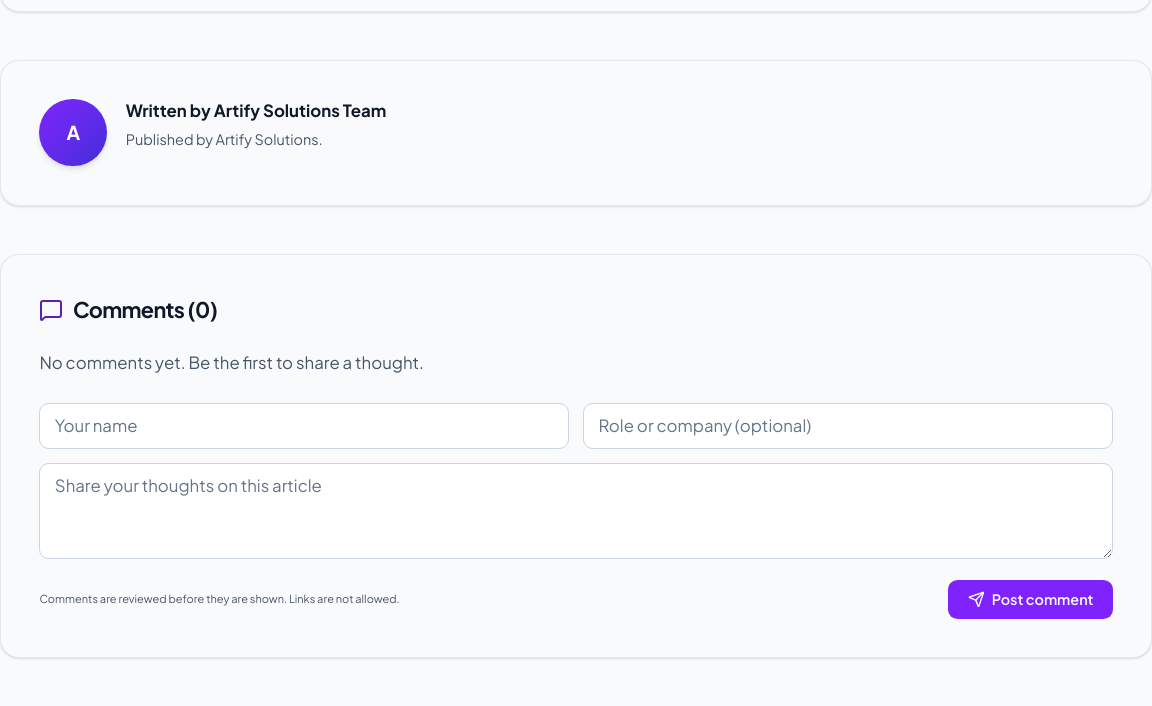
it: engagement UI › submits a comment for review, never showing it as published
The width and height of the screenshot is (1152, 706).
(page scrolled)
In the field labelled "Your name": (304, 426) [39,403,569,449], type "Reader One"
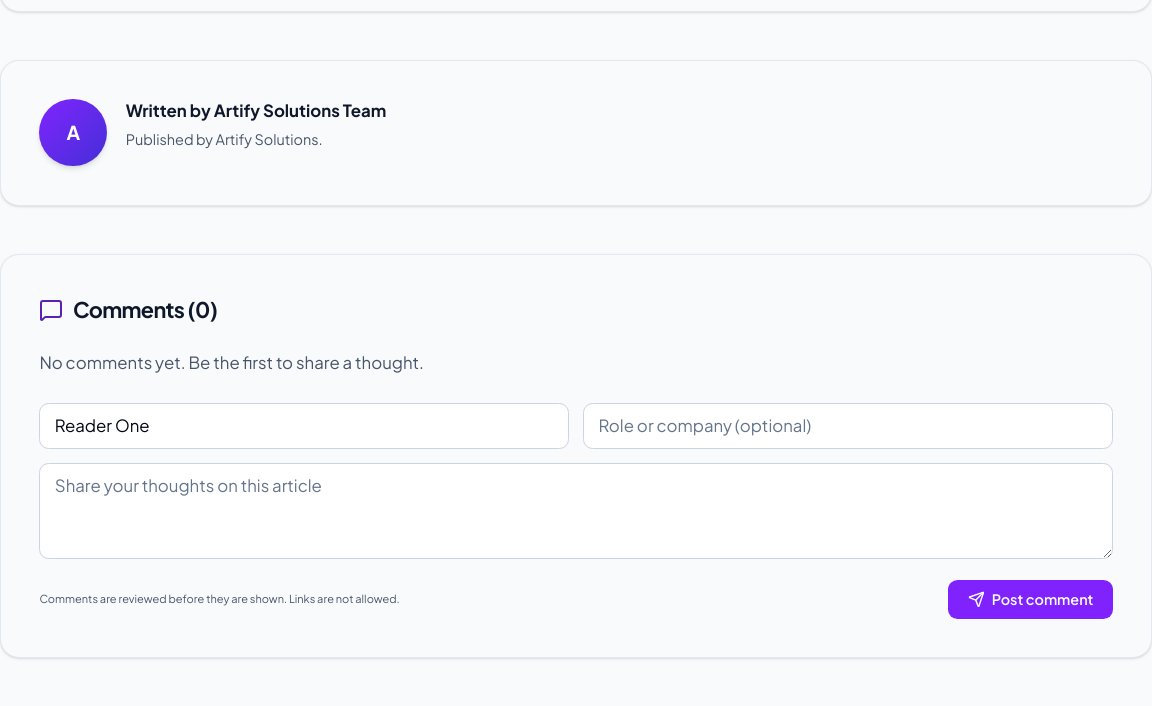
In the text box named "Your comment": (576, 511) [39,463,1113,559], type "A thoughtful comment."
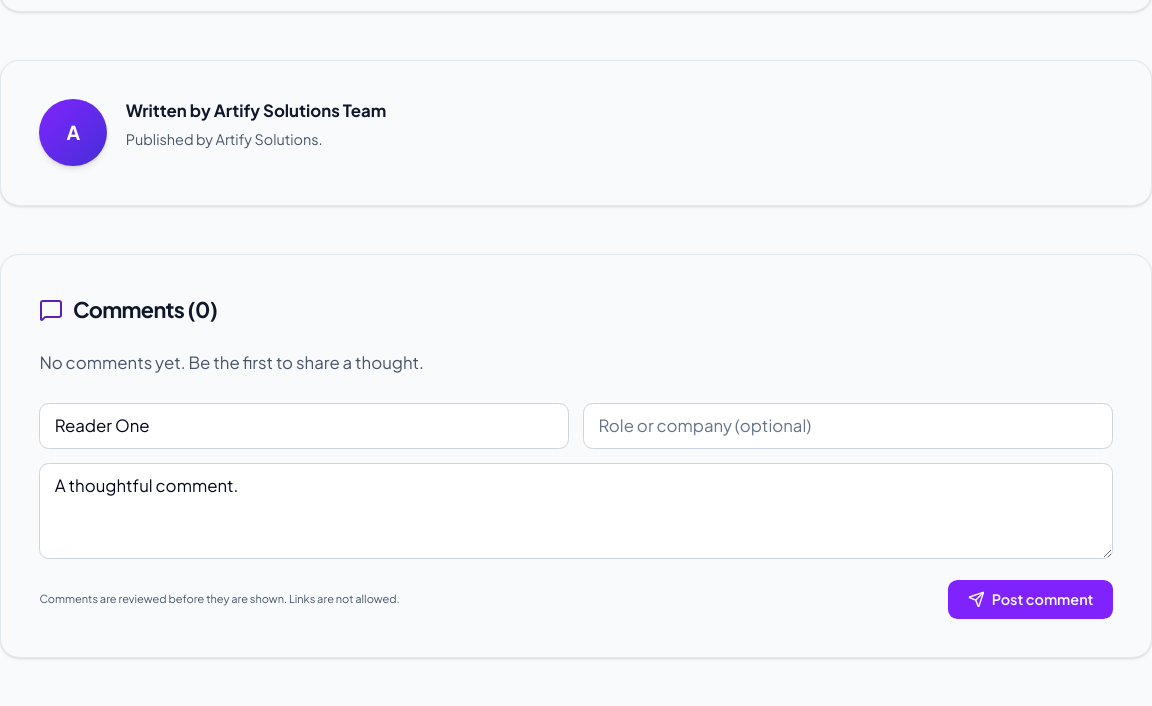
Submit the form named "Leave a comment", box [39,403,1113,618]
(page scrolled)
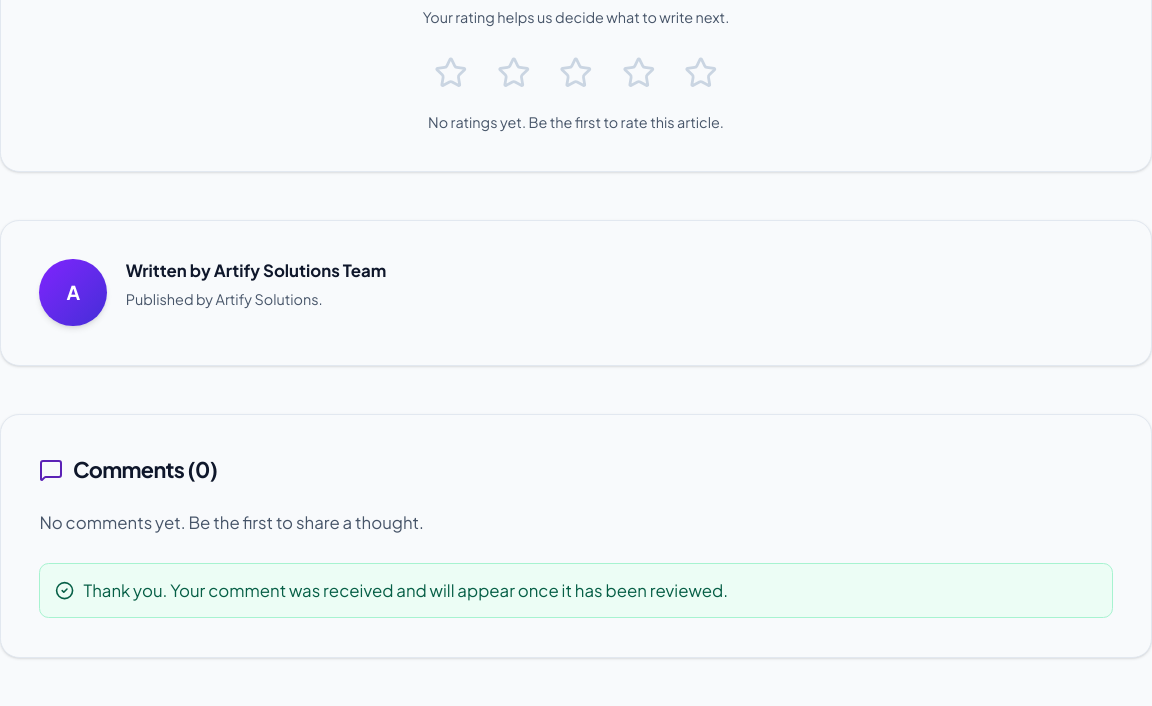
Expected: the heading "Comments (0)" is shown, [73,453,217,487]
Now the text "will appear once it has been reviewed" is shown, box [84,580,728,601]
